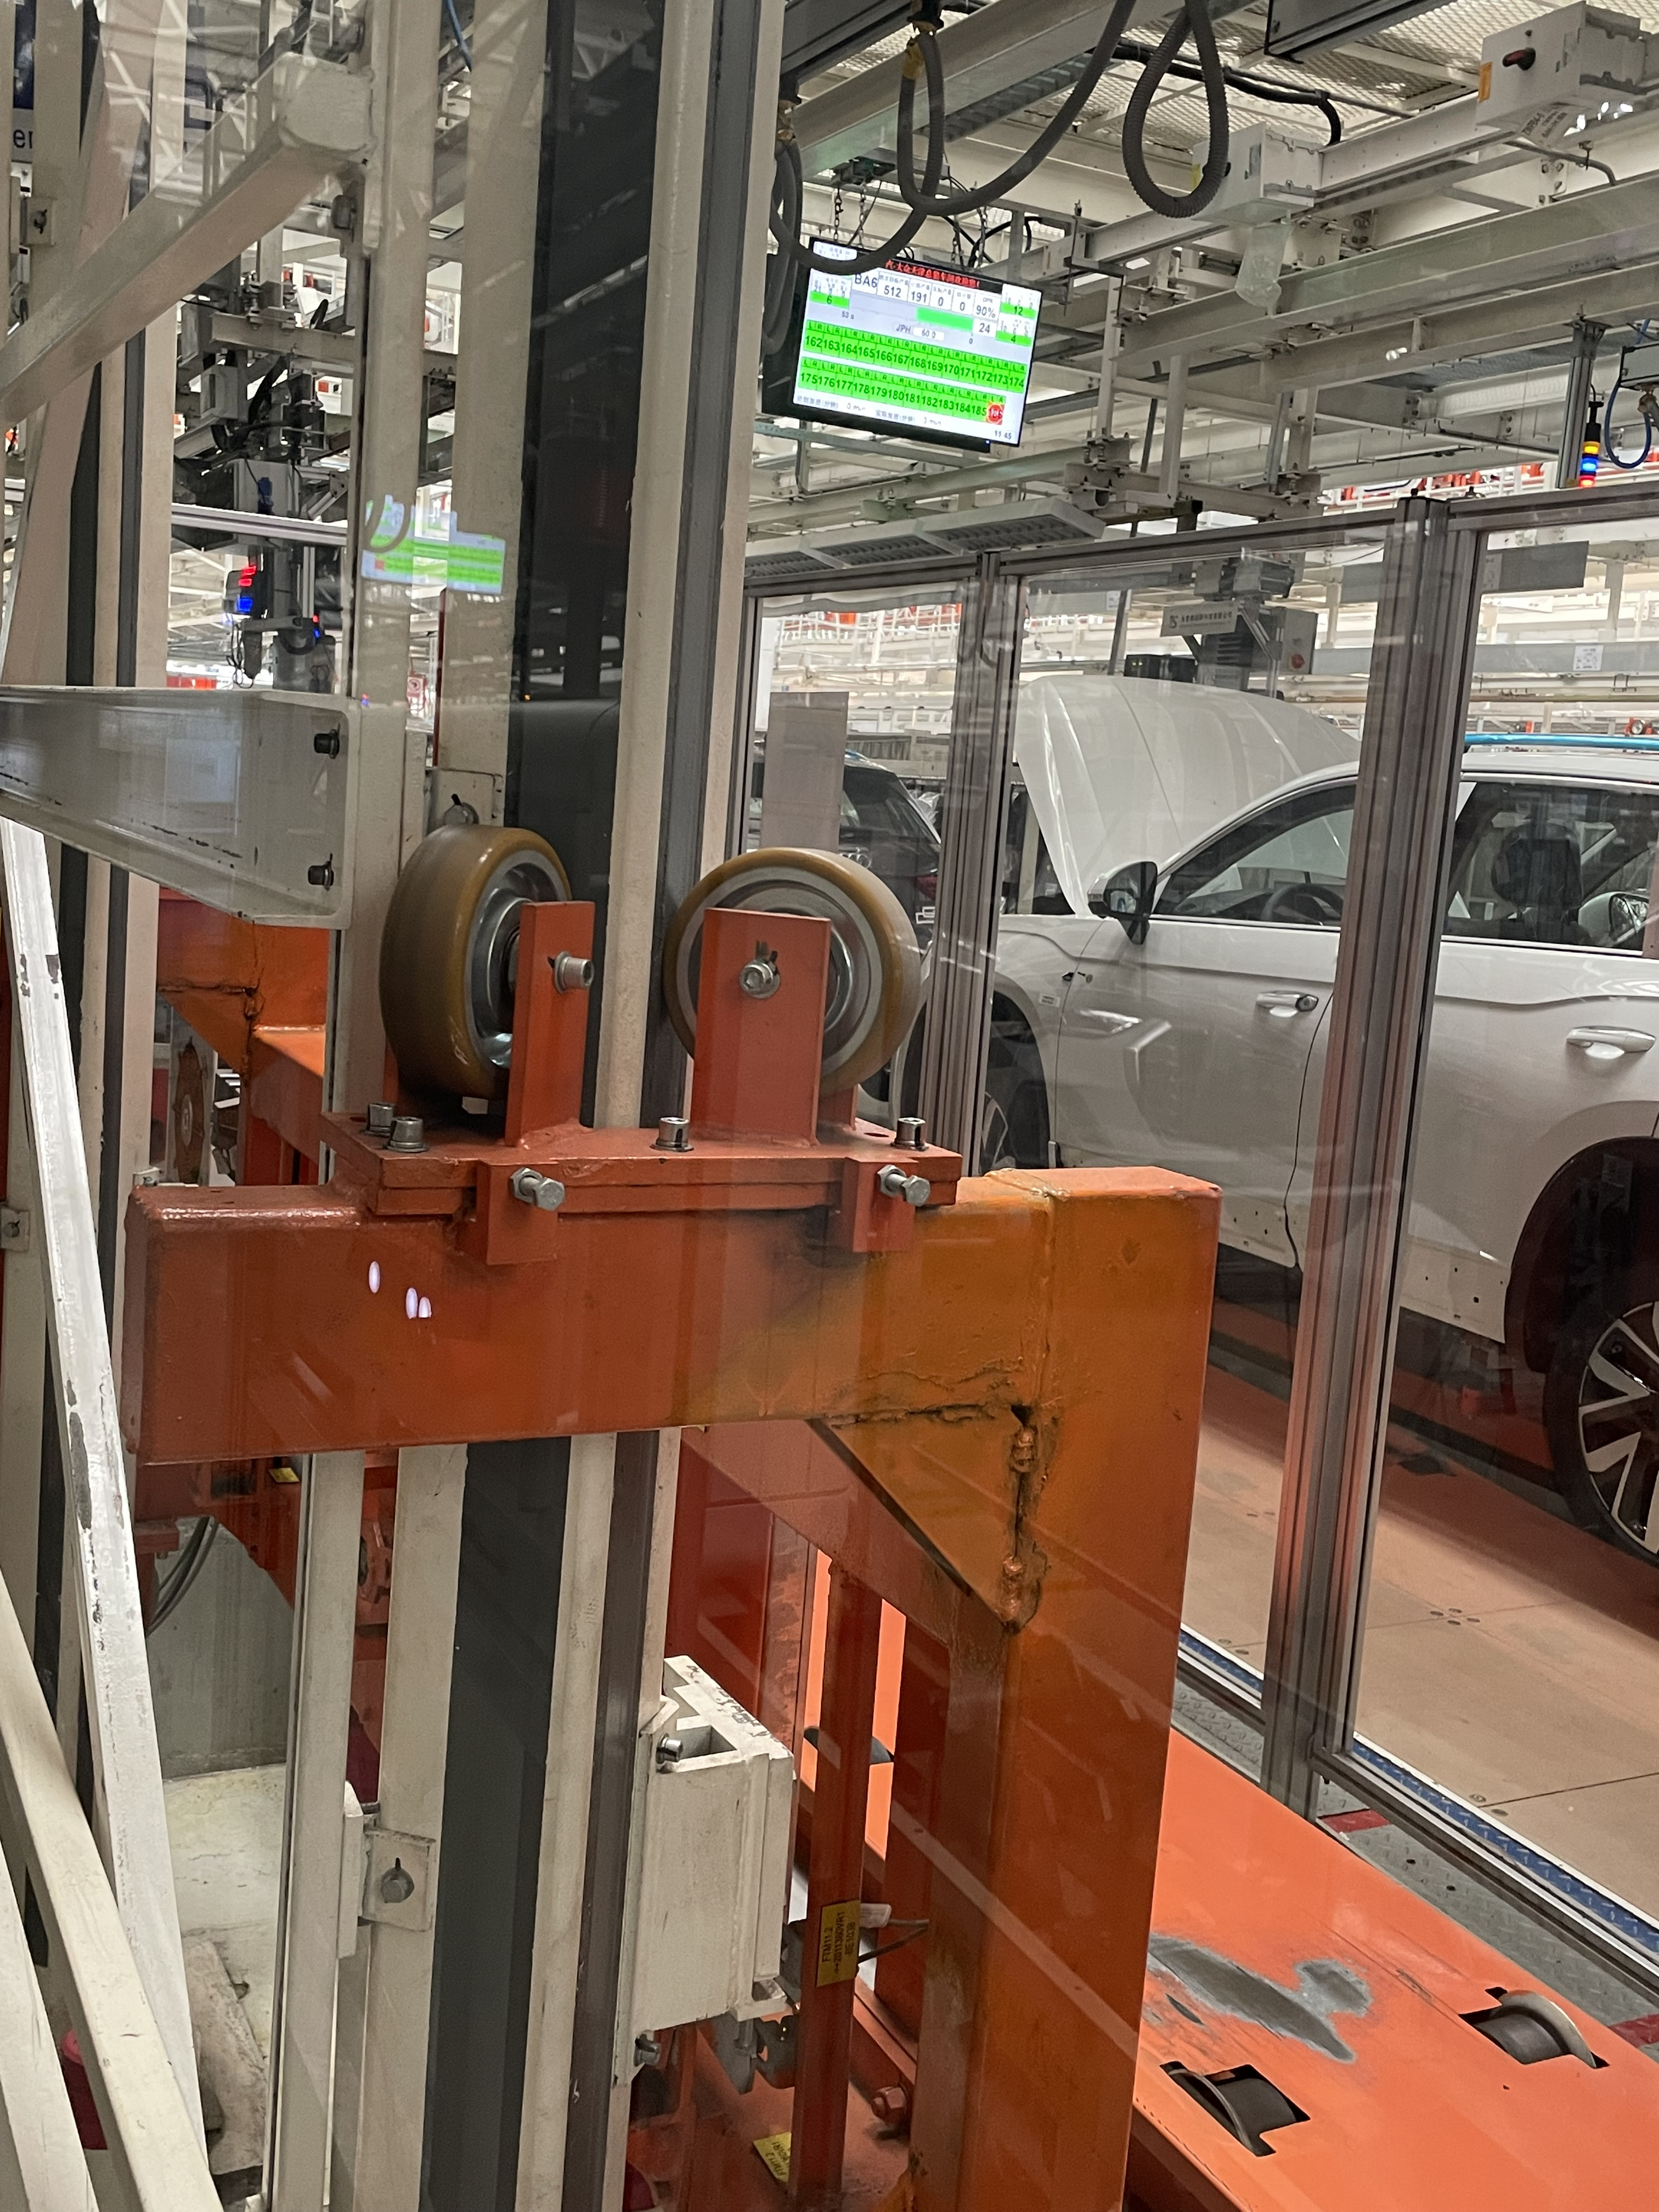good_wheel: (603, 813, 972, 1083), (349, 799, 603, 1092)
